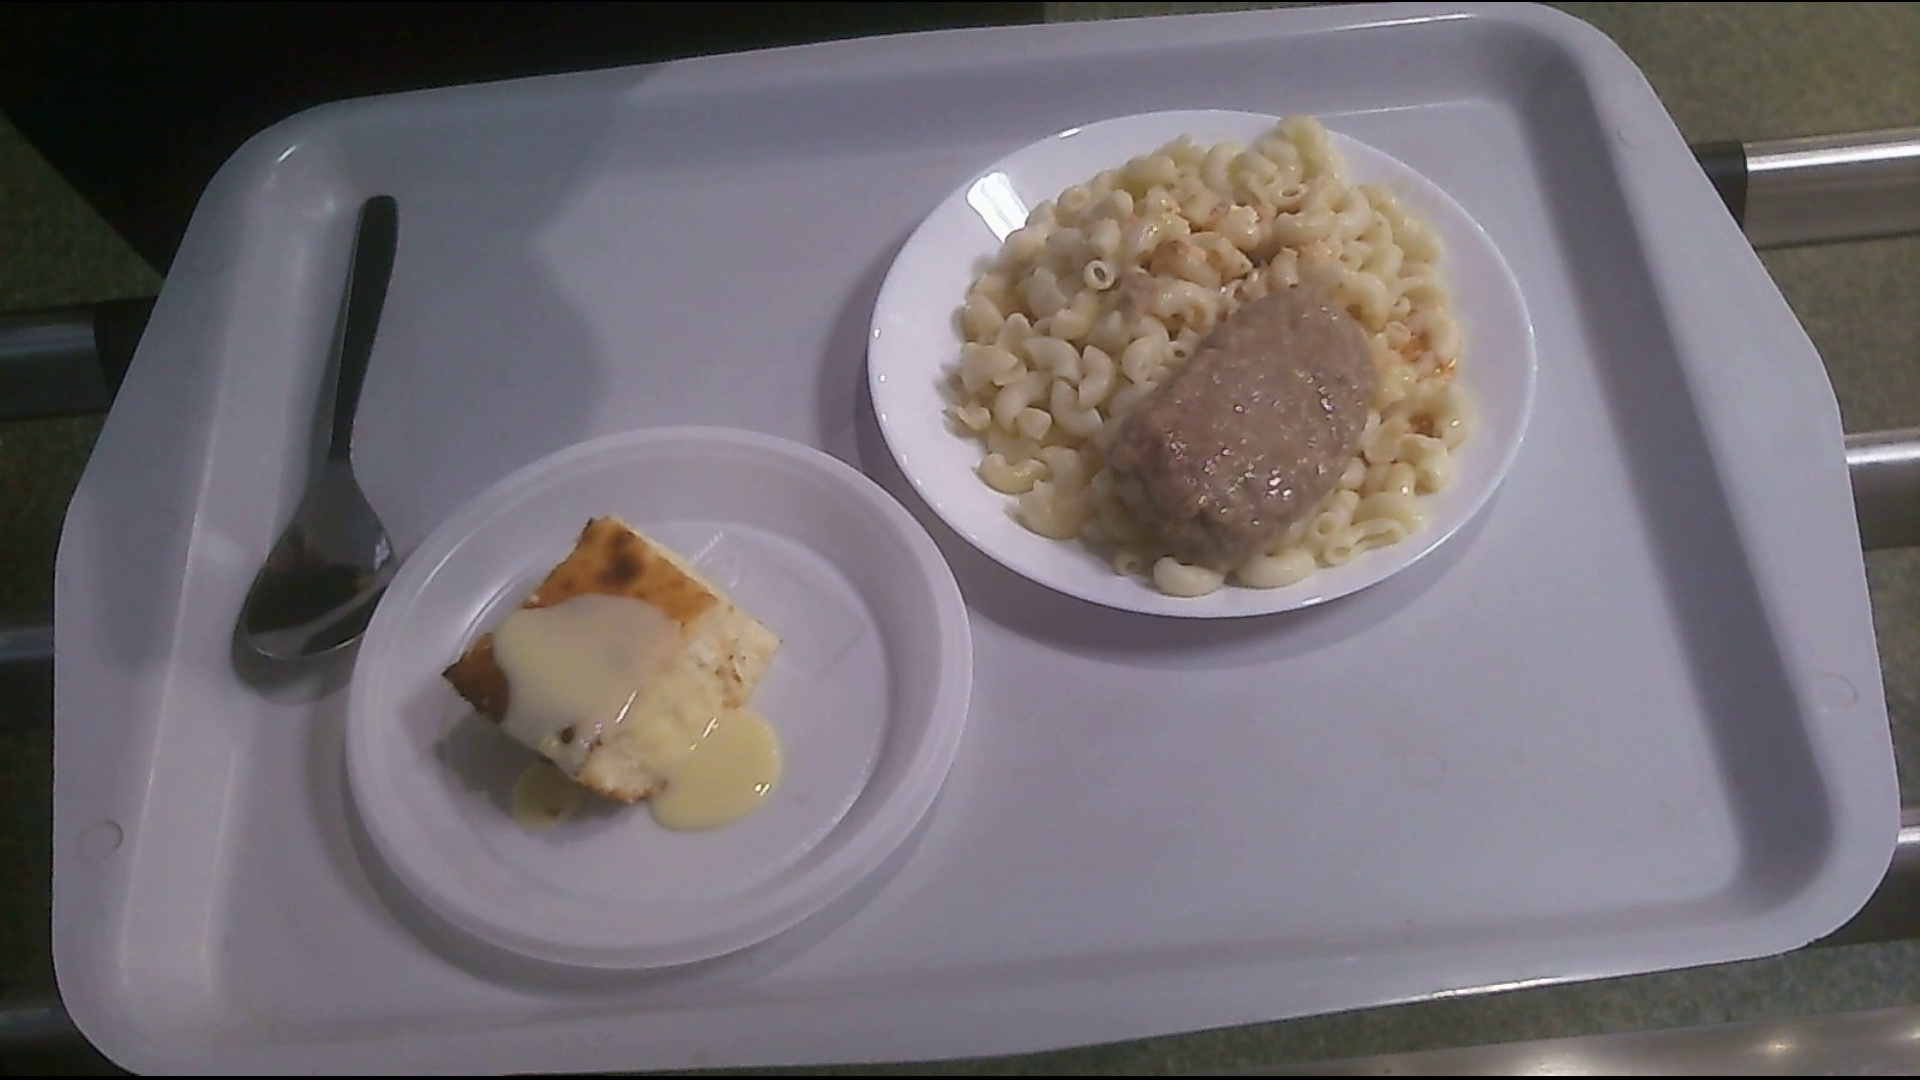cutlery: (244, 174, 407, 686)
plate: (348, 429, 977, 1000), (864, 107, 1542, 624)
